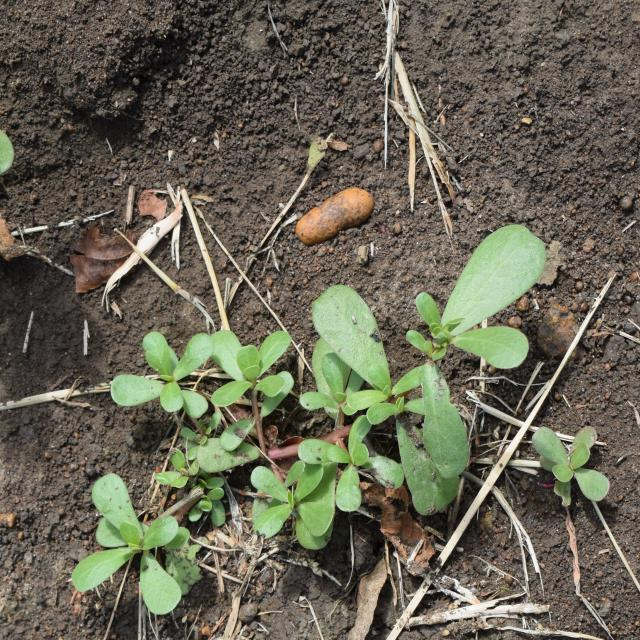Purslane: (71, 224, 547, 615), (531, 425, 610, 507)
